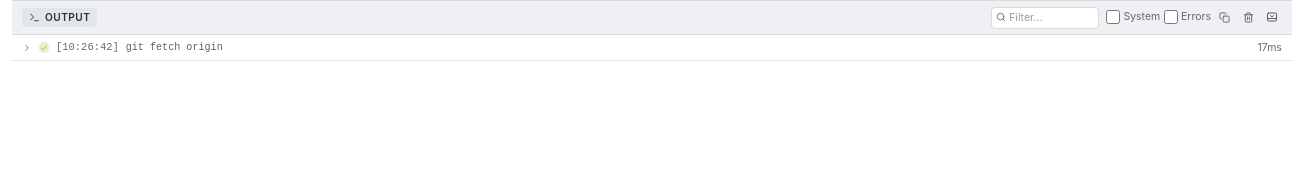
CommandLogPanel — Commands tab (raw git output) › expands a successful entry showing its stdout block
Click the text "git fetch origin": (174, 47) x1=126 y1=42 x2=223 y2=53
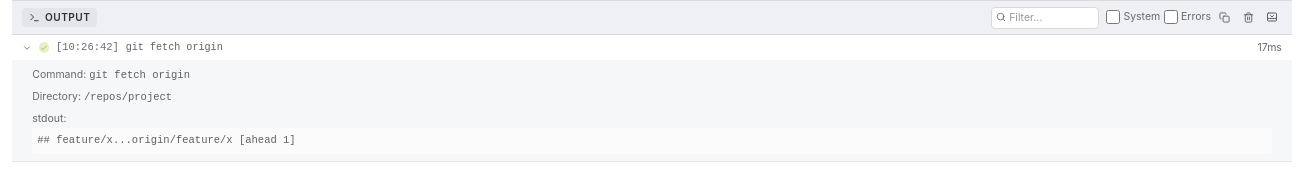
Expected: the text "stdout:" is shown, x1=32 y1=112 x2=67 y2=125
Expected: the text "## feature/x...origin/feature/x [ahead 1]" is shown, x1=32 y1=128 x2=1272 y2=154
